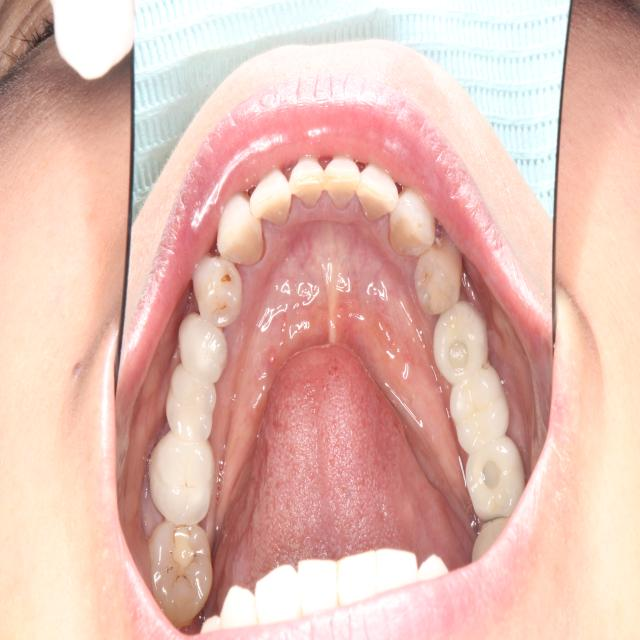tooth: (142, 506, 218, 635), (145, 422, 219, 525), (445, 363, 515, 460), (426, 295, 494, 388), (462, 435, 531, 522), (161, 355, 226, 446), (188, 244, 245, 330), (210, 188, 266, 272), (412, 230, 465, 318), (174, 310, 233, 388), (385, 177, 438, 261), (462, 505, 522, 572), (355, 155, 401, 227), (247, 167, 292, 230), (324, 153, 363, 216), (287, 153, 325, 214)
